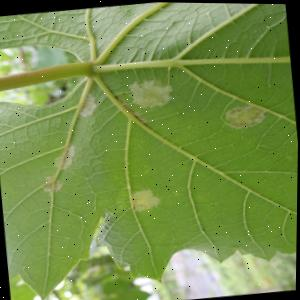Folha: (0, 0, 300, 300)
Fungo: (126, 75, 175, 110), (223, 101, 267, 129), (130, 186, 162, 211), (52, 142, 79, 170), (75, 91, 98, 117), (42, 178, 64, 192)
